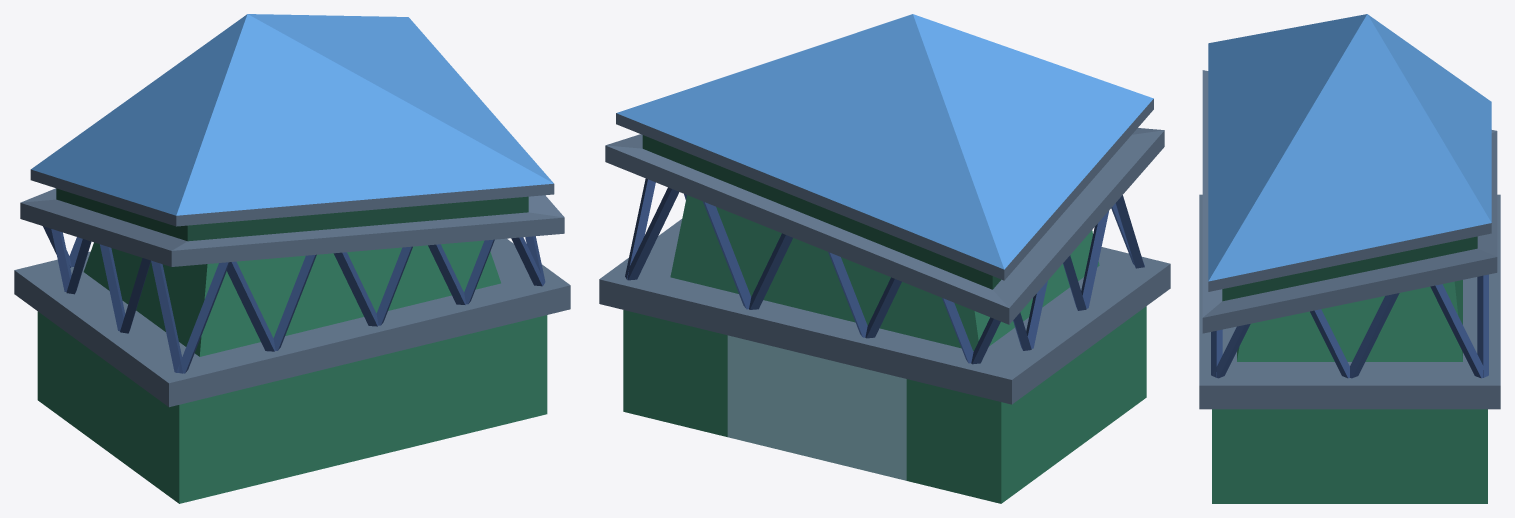
Rendered from xStadium.fbx.
3 renders of one model, left to right at view 1: azimuth 30°, elevation 25°; view 2: azimuth 150°, elevation 25°; view 3: azimuth 270°, elevation 25°, orthographic. The views are drawn at different scales.
Parts seen in each view (by area): view 1: Cube.009, Cylinder.014; view 2: Cube.009, Cylinder.014; view 3: Cube.009, Cylinder.014.
Part boxes in pixels (box(x1,y1,x2,y2)): Cube.009: box(14, 14, 570, 503); Cylinder.014: box(43, 226, 545, 373); Cube.009: box(599, 14, 1170, 503); Cylinder.014: box(625, 178, 1144, 364); Cube.009: box(1199, 14, 1500, 503); Cylinder.014: box(1211, 274, 1488, 378).
Bounding box in the file's own units: 7799 × 7338 × 5199.
